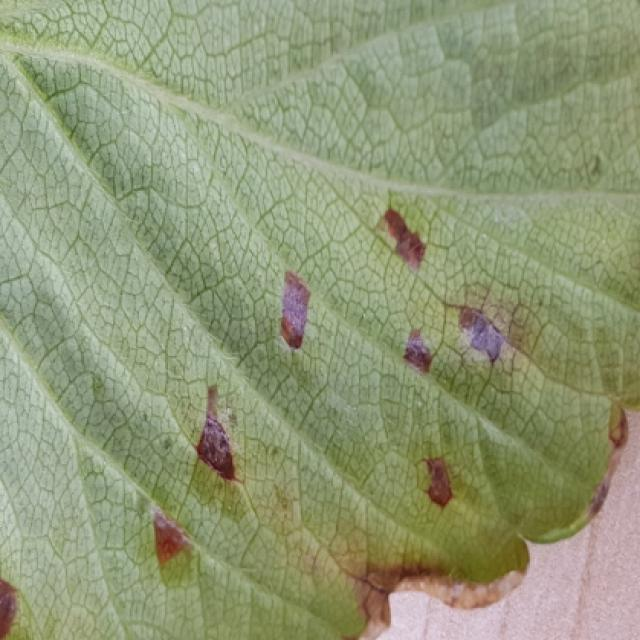Angular Leafspot: (0, 204, 632, 638)
